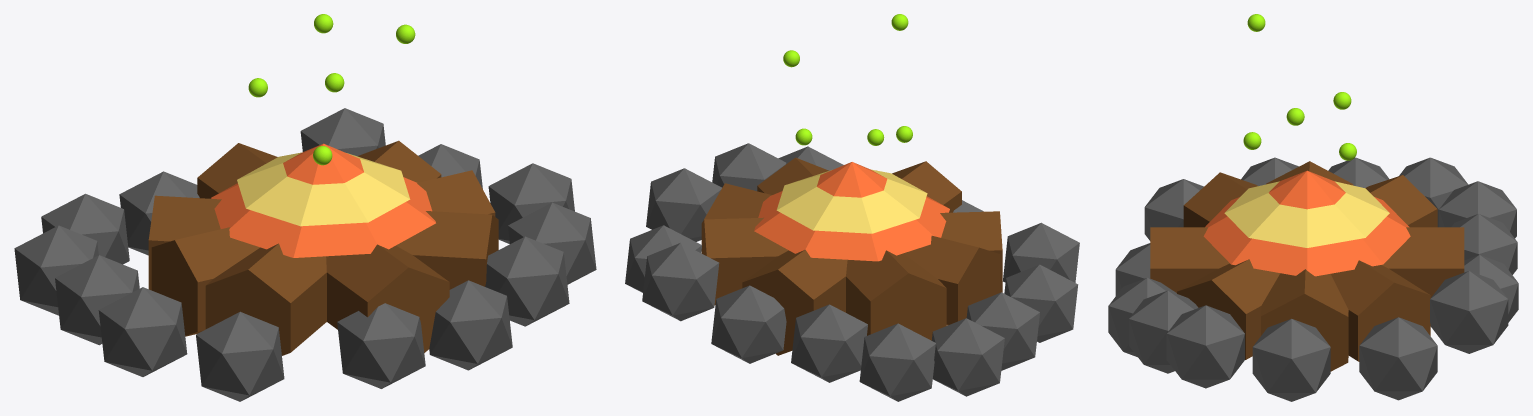
The model's file is campfire.glb.
3 views of the same model, side by side, from view 1: azimuth 30°, elevation 25°; view 2: azimuth 150°, elevation 25°; view 3: azimuth 270°, elevation 25° (orthographic). The views are drawn at different scales.
Visible parts, largest first — view 1: Cylinder.003, Cone.001, Cone, Icosphere.008, Icosphere.009, Icosphere.007, Icosphere.006, Icosphere.005, Icosphere.010, Icosphere.011, Icosphere.004, Icosphere.003 (+4 smaller); view 2: Cylinder.003, Cone.001, Cone, Icosphere, Icosphere.012, Icosphere.014, Icosphere.013, Icosphere.011, Icosphere.003, Icosphere.009, Icosphere.010, Icosphere.008 (+3 smaller); view 3: Cylinder.003, Cone.001, Cone, Icosphere.001, Icosphere, Icosphere.003, Icosphere.004, Icosphere.005, Icosphere.012, Icosphere.013, Icosphere.006, Icosphere.008 (+5 smaller).
Part boxes in pixels (bbox=[...]): Cylinder.003: bbox=[148, 140, 498, 355]; Cone.001: bbox=[211, 143, 435, 257]; Cone: bbox=[237, 152, 410, 226]; Icosphere.008: bbox=[196, 311, 284, 401]; Icosphere.009: bbox=[98, 287, 187, 376]; Icosphere.007: bbox=[337, 303, 425, 388]; Icosphere.006: bbox=[429, 280, 512, 370]; Icosphere.005: bbox=[485, 236, 569, 326]; Icosphere.010: bbox=[55, 255, 139, 345]; Icosphere.011: bbox=[14, 225, 98, 315]; Icosphere.004: bbox=[508, 202, 596, 284]; Icosphere.003: bbox=[488, 163, 574, 243]; Cylinder.003: bbox=[701, 157, 1002, 355]; Cone.001: bbox=[754, 162, 949, 261]; Cone: bbox=[776, 169, 927, 233]; Icosphere: bbox=[642, 242, 719, 321]; Icosphere.012: bbox=[859, 323, 935, 401]; Icosphere.014: bbox=[711, 285, 786, 363]; Icosphere.013: bbox=[791, 304, 867, 382]; Icosphere.011: bbox=[931, 318, 1004, 396]; Icosphere.003: bbox=[646, 168, 721, 241]; Icosphere.009: bbox=[1004, 264, 1078, 342]; Icosphere.010: bbox=[966, 292, 1039, 370]; Icosphere.008: bbox=[1003, 222, 1079, 282]; Cylinder.003: bbox=[1150, 161, 1464, 371]; Cone.001: bbox=[1203, 170, 1410, 276]; Cone: bbox=[1224, 181, 1389, 247]; Icosphere.001: bbox=[1359, 317, 1437, 400]; Icosphere: bbox=[1430, 271, 1508, 353]; Icosphere.003: bbox=[1252, 318, 1330, 401]; Icosphere.004: bbox=[1166, 305, 1244, 388]; Icosphere.005: bbox=[1129, 290, 1198, 373]; Icosphere.012: bbox=[1439, 181, 1516, 238]; Icosphere.013: bbox=[1451, 214, 1517, 274]; Icosphere.006: bbox=[1108, 277, 1176, 357]; Icosphere.008: bbox=[1144, 179, 1203, 240].
Size of the model in its own units: 2.83 by 1.9 by 2.29.
